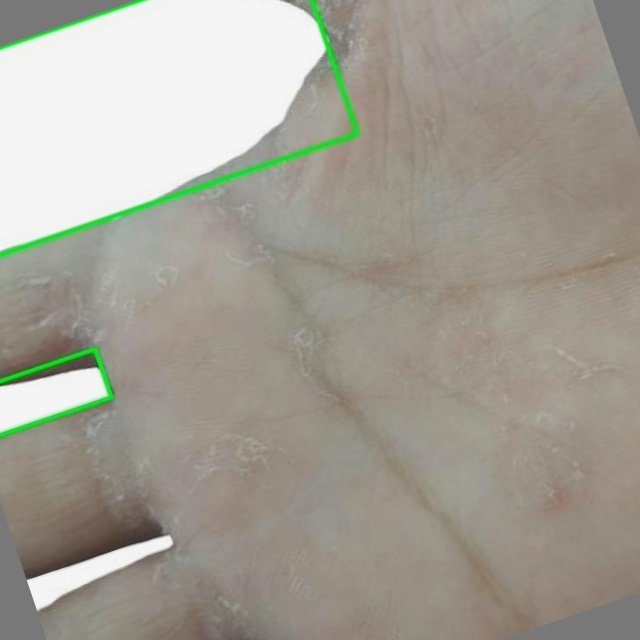Scabies: (0, 0, 357, 254), (0, 348, 111, 434)
